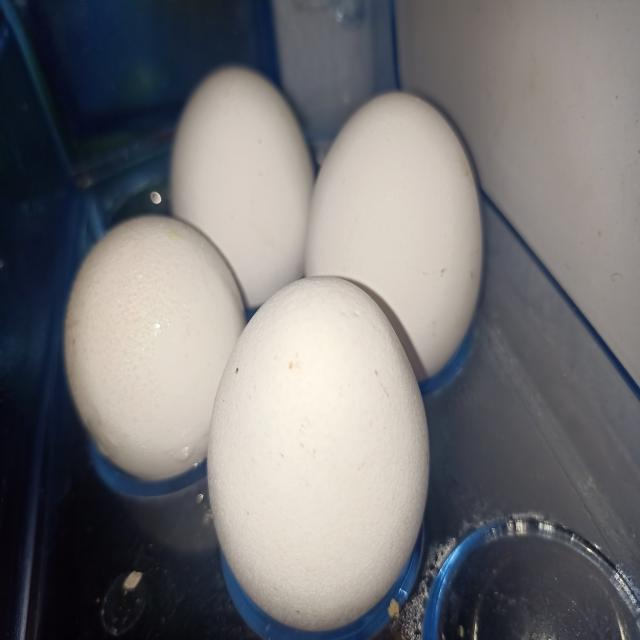Egg: (208, 276, 430, 631), (305, 91, 483, 380), (63, 215, 245, 481), (170, 64, 314, 307)
